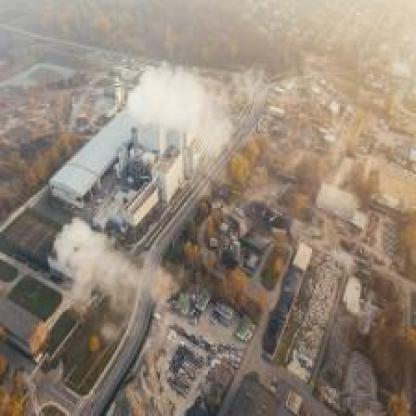Smoke: (135, 70, 222, 150), (55, 226, 129, 292)
